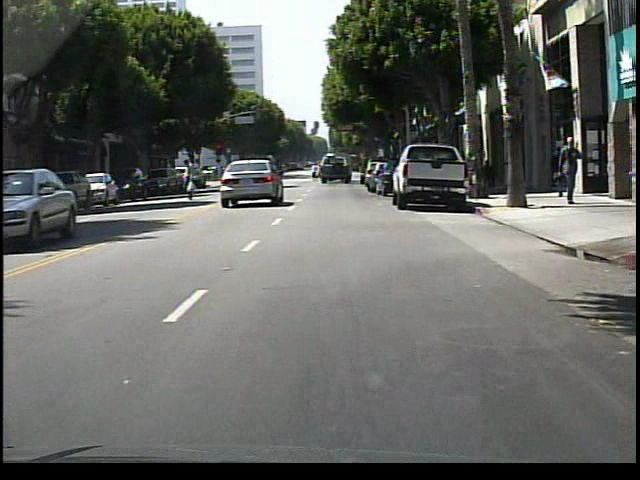person: (559, 134, 584, 205), (548, 145, 566, 201), (182, 156, 201, 202), (312, 163, 321, 185)
